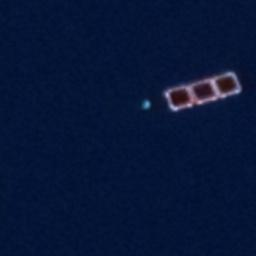square_solid: (161, 82, 198, 117), (209, 67, 246, 101), (187, 75, 222, 108)
